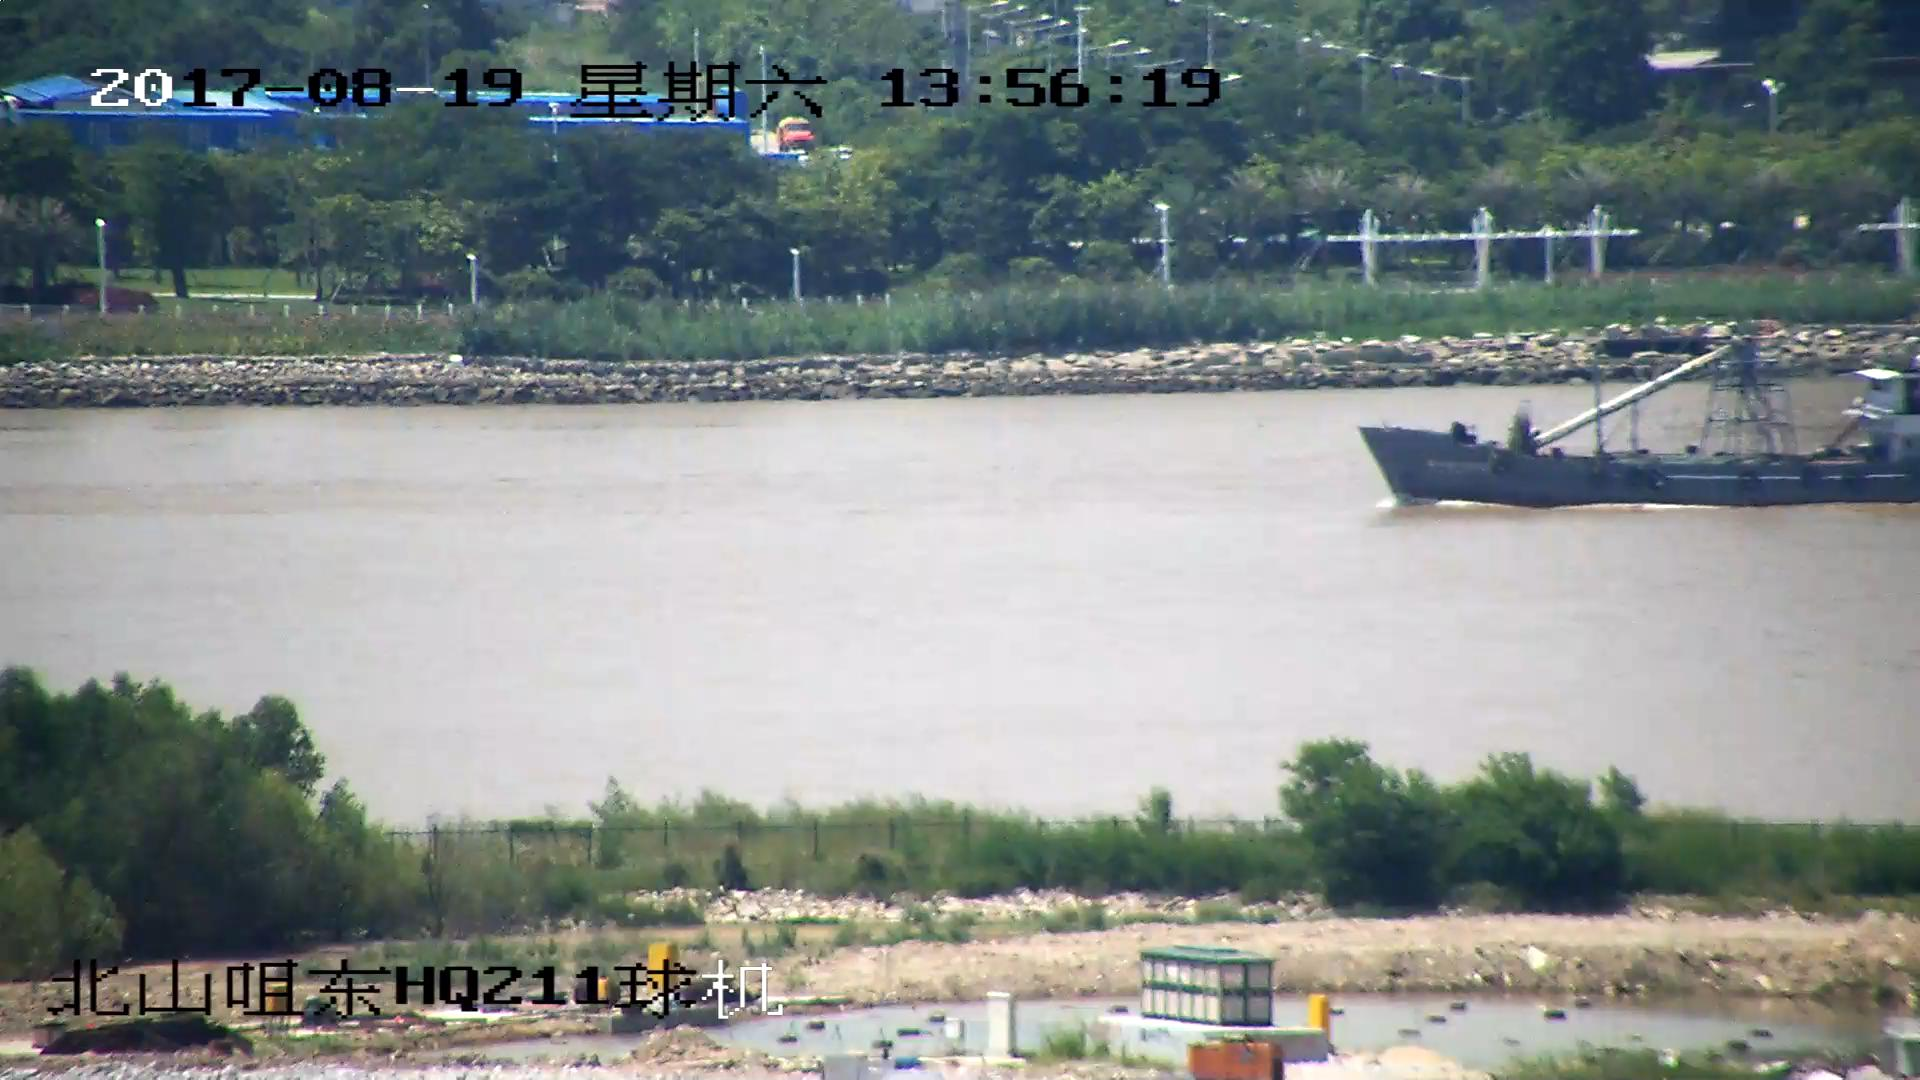fishing boat: (1357, 339, 1920, 509)
